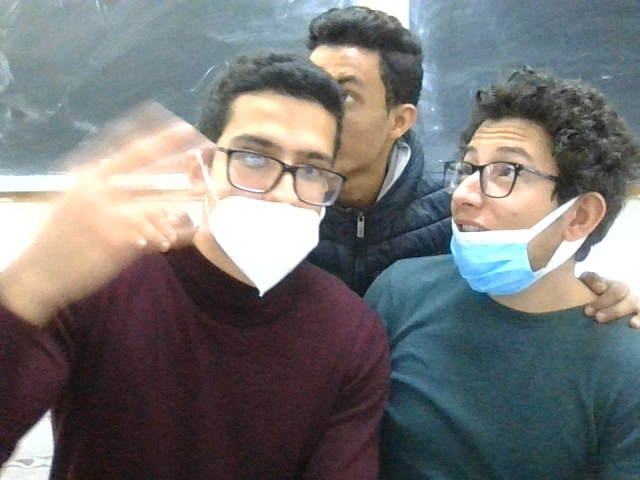mask_weared_incorrect: (441, 64, 617, 288), (203, 51, 347, 293)
